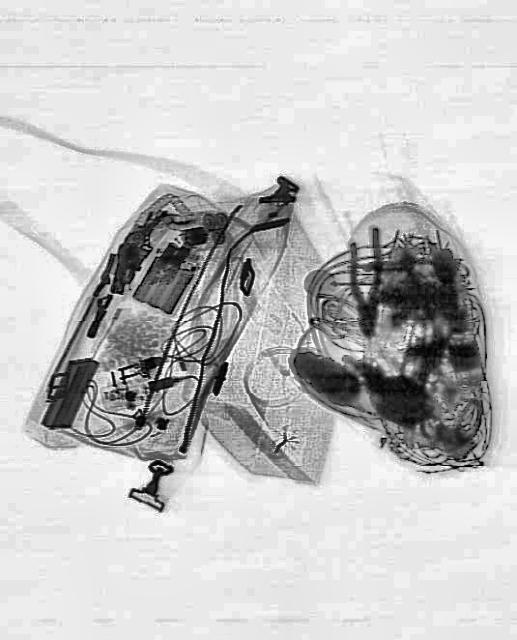Pliers: (345, 227, 387, 339)
